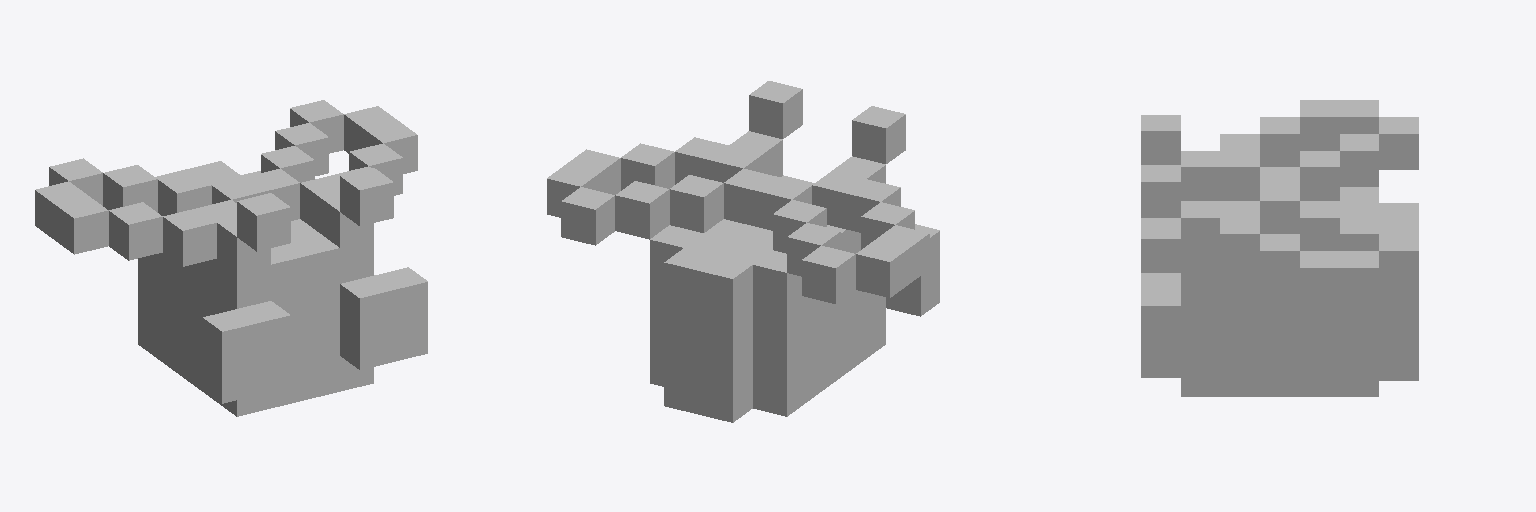
File: Bee.obj
3 renders of one model, left to right at view 1: azimuth 30°, elevation 25°; view 2: azimuth 150°, elevation 25°; view 3: azimuth 270°, elevation 25°, orthographic.
Visible parts, largest first — view 1: bee; view 2: bee; view 3: bee.
Part boxes in pixels (left/top/right/bottom): bee: left=35, top=100, right=427, bottom=416; bee: left=547, top=81, right=939, bottom=422; bee: left=1141, top=100, right=1418, bottom=396.
Bounding box in the file's own units: 1 × 0.6 × 0.7.